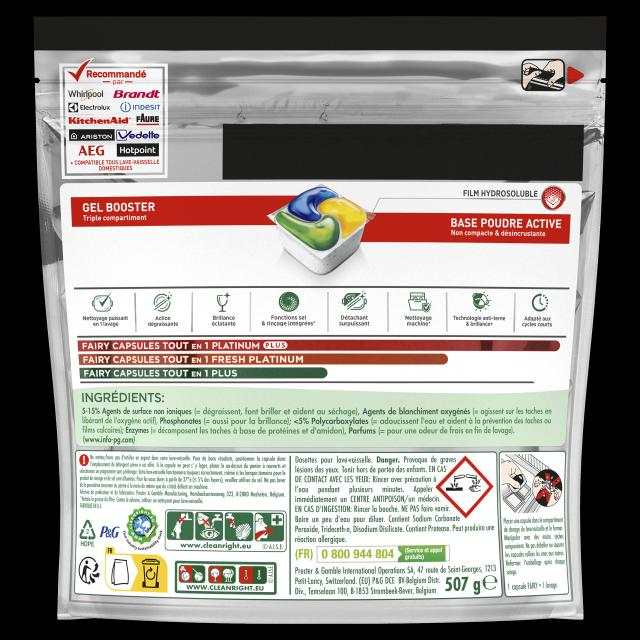GHS_Symbol_CORROSION: (437, 454, 492, 518)
